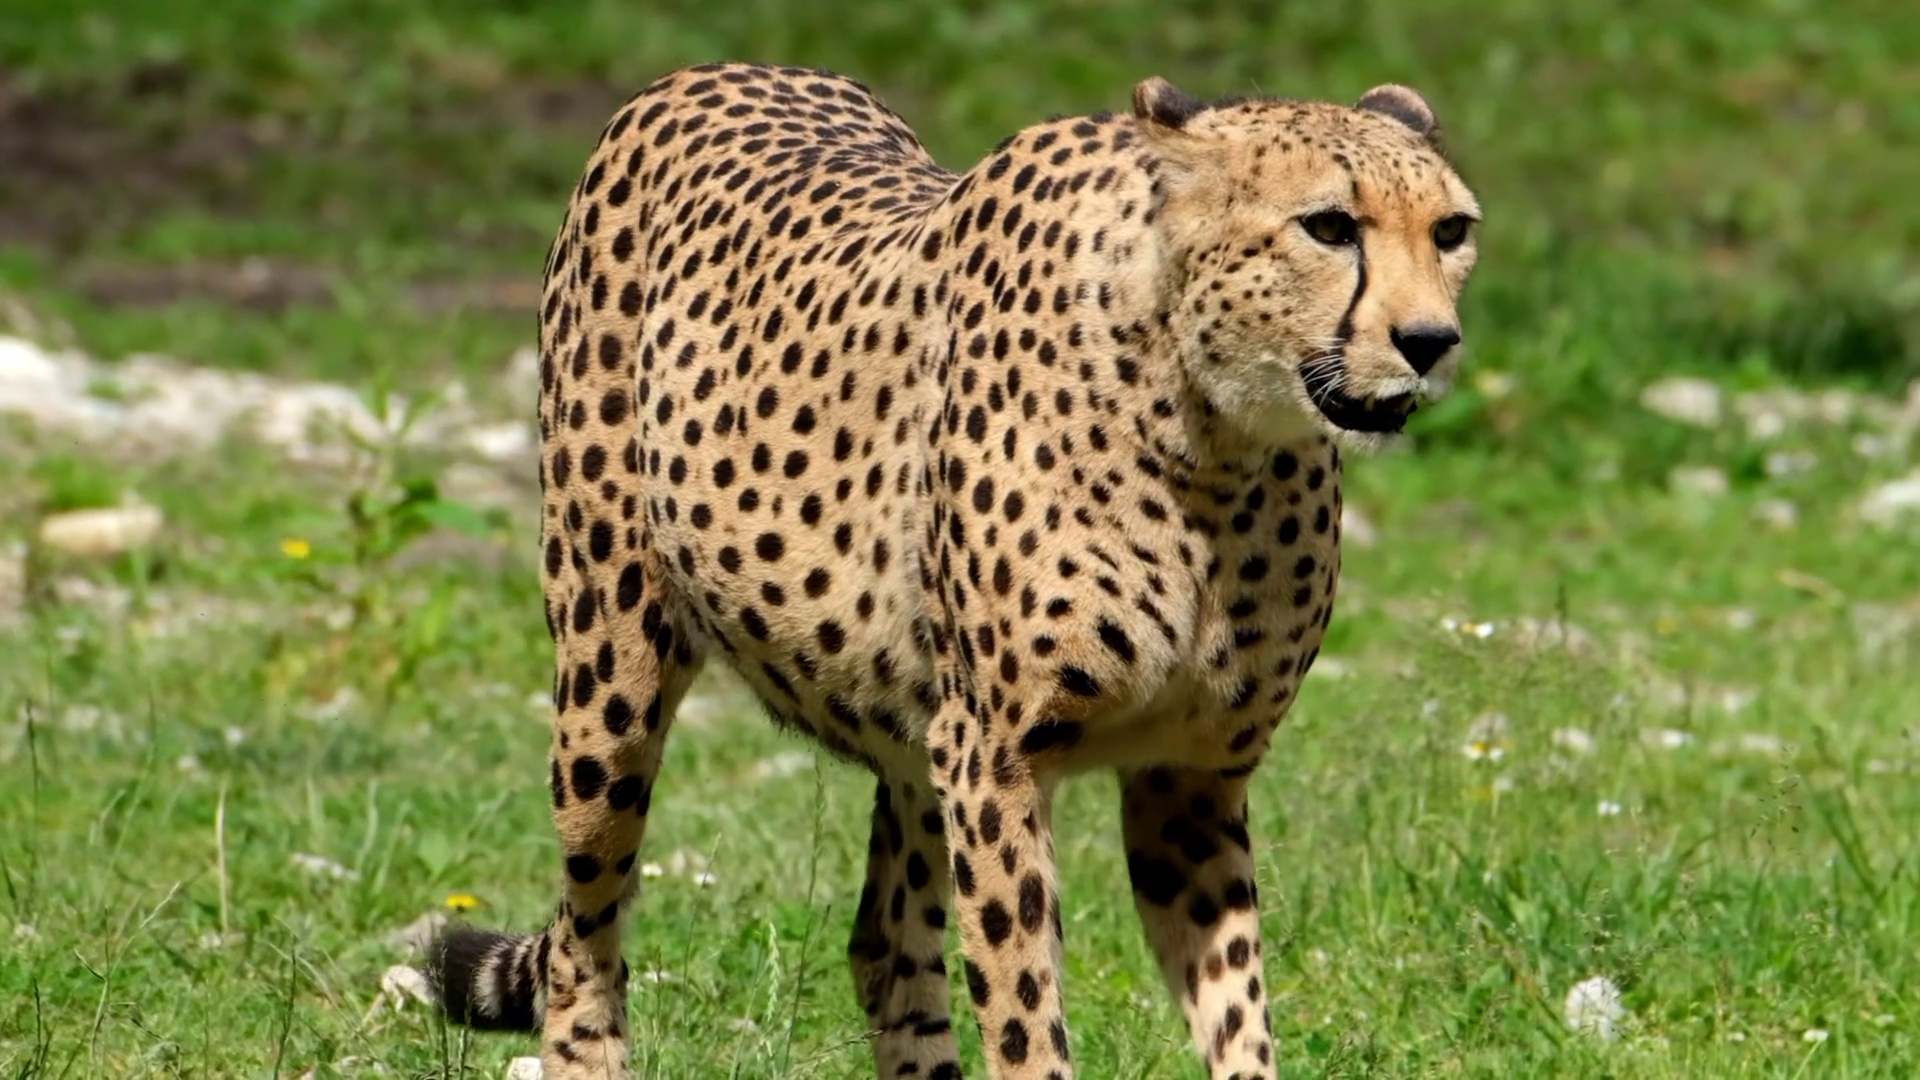Cheetah: (422, 55, 1490, 1080)
